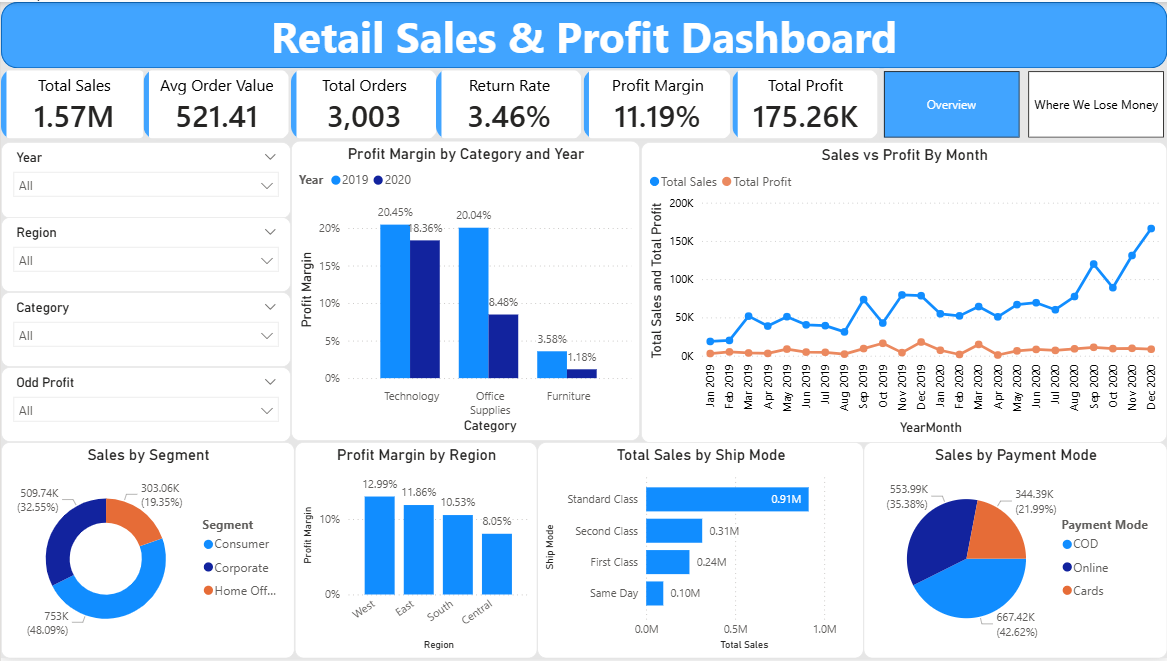

The page's visual inventory and layout, read from the dashboard file:
{"tool":"powerbi","page":{"name":"Overview","canvas":[1280,720],"ordinal":0},"visuals":[{"type":"shape","box":[0,0,1280.3,72.7],"z":0},{"type":"cardVisual","fields":{"Data":["sales_data (1).Total Sales"]},"box":[0,72.7,161.9,79.6],"z":1000},{"type":"cardVisual","fields":{"Data":["sales_data (1).Average Sales"]},"box":[156.4,72.7,161.9,79.6],"z":2000},{"type":"cardVisual","fields":{"Data":["sales_data (1).Total Orders Text"]},"box":[318.4,72.7,161.9,79.6],"z":3000},{"type":"cardVisual","fields":{"Data":["sales_data (1).Total Profit"]},"box":[802.7,72.7,161.9,79.6],"z":4000},{"type":"cardVisual","fields":{"Data":["sales_data (1).Profit Margin"]},"box":[639.5,72.7,163.3,79.6],"z":5000},{"type":"cardVisual","fields":{"Data":["sales_data (1).Return Rate"]},"box":[477.5,72.7,161.9,79.6],"z":6000},{"type":"lineChart","title":"Sales vs Profit By Month","fields":{"Y":["sales_data (1).Total Sales","sales_data (1).Total Profit"],"Category":["sales_data (1).YearMonth"]},"box":[702.6,153.7,577.7,330.7],"z":7000},{"type":"donutChart","title":"Sales by Segment","fields":{"Y":["Sum(sales_data (1).Sales)"],"Category":["sales_data (1).Segment"]},"box":[0,483,322.5,237.4],"z":8000},{"type":"pieChart","title":"Sales by Payment Mode","fields":{"Y":["Sum(sales_data (1).Sales)"],"Category":["sales_data (1).Payment Mode"]},"box":[946.8,483,333.4,237.4],"z":9000},{"type":"clusteredColumnChart","fields":{"Category":["sales_data (1).Category"],"Y":["sales_data (1).Profit Margin"],"Series":["sales_data (1).Year"]},"box":[318.4,152.3,382.8,329.3],"z":10000},{"type":"clusteredBarChart","fields":{"Y":["sales_data (1).Total Sales"],"Category":["sales_data (1).Ship Mode"]},"box":[588.7,483,358.1,237.4],"z":11000},{"type":"columnChart","fields":{"Category":["sales_data (1).Region"],"Y":["sales_data (1).Profit Margin"]},"box":[322.5,483,266.2,237.4],"z":12000},{"type":"slicer","fields":{"Values":["sales_data (1).Year"]},"box":[0,153.7,318.4,83.7],"z":13000},{"type":"slicer","fields":{"Values":["sales_data (1).Region"]},"box":[0,236,318.4,82.3],"z":14000},{"type":"slicer","fields":{"Values":["sales_data (1).Category"]},"box":[0,318.4,318.4,82.3],"z":15000},{"type":"slicer","fields":{"Values":["sales_data (1).Odd Profit"]},"box":[0,400.7,318.4,82.3],"z":16000},{"type":"pageNavigator","box":[966,72.7,314.2,79.6],"z":16001}]}

Visuals, with their boxes in screenshot pixels (x1, y1, x2, y2), scaled from the page's 1280x720 canvas onto the 1167x661 screenshot:
shape: (0,0,1166,67)
cardVisual - sales_data (1).Total Sales: (0,67,148,140)
cardVisual - sales_data (1).Average Sales: (143,67,290,140)
cardVisual - sales_data (1).Total Orders Text: (290,67,438,140)
cardVisual - sales_data (1).Total Profit: (732,67,879,140)
cardVisual - sales_data (1).Profit Margin: (583,67,732,140)
cardVisual - sales_data (1).Return Rate: (435,67,583,140)
"Sales vs Profit By Month" lineChart: (641,141,1166,445)
"Sales by Segment" donutChart: (0,443,294,660)
"Sales by Payment Mode" pieChart: (863,443,1166,660)
clusteredColumnChart - sales_data (1).Category x sales_data (1).Profit Margin: (290,140,639,442)
clusteredBarChart - sales_data (1).Total Sales x sales_data (1).Ship Mode: (537,443,863,660)
columnChart - sales_data (1).Region x sales_data (1).Profit Margin: (294,443,537,660)
slicer - sales_data (1).Year: (0,141,290,218)
slicer - sales_data (1).Region: (0,217,290,292)
slicer - sales_data (1).Category: (0,292,290,368)
slicer - sales_data (1).Odd Profit: (0,368,290,443)
pageNavigator: (881,67,1166,140)
